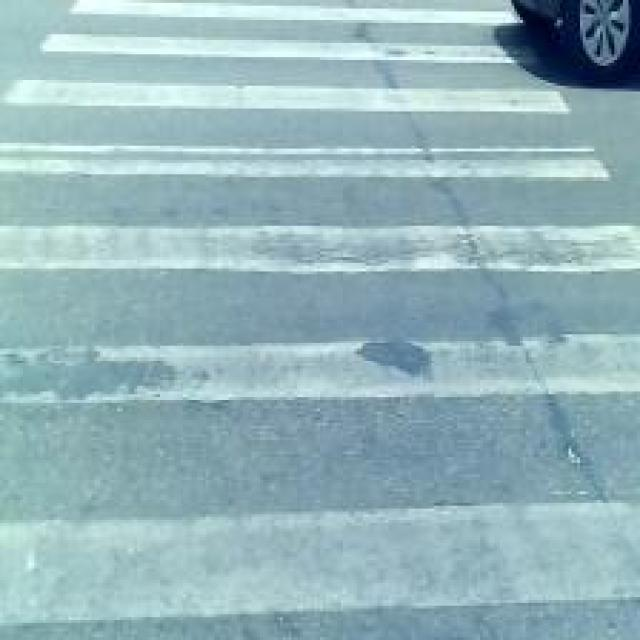crosswalk: (1, 5, 640, 627)
